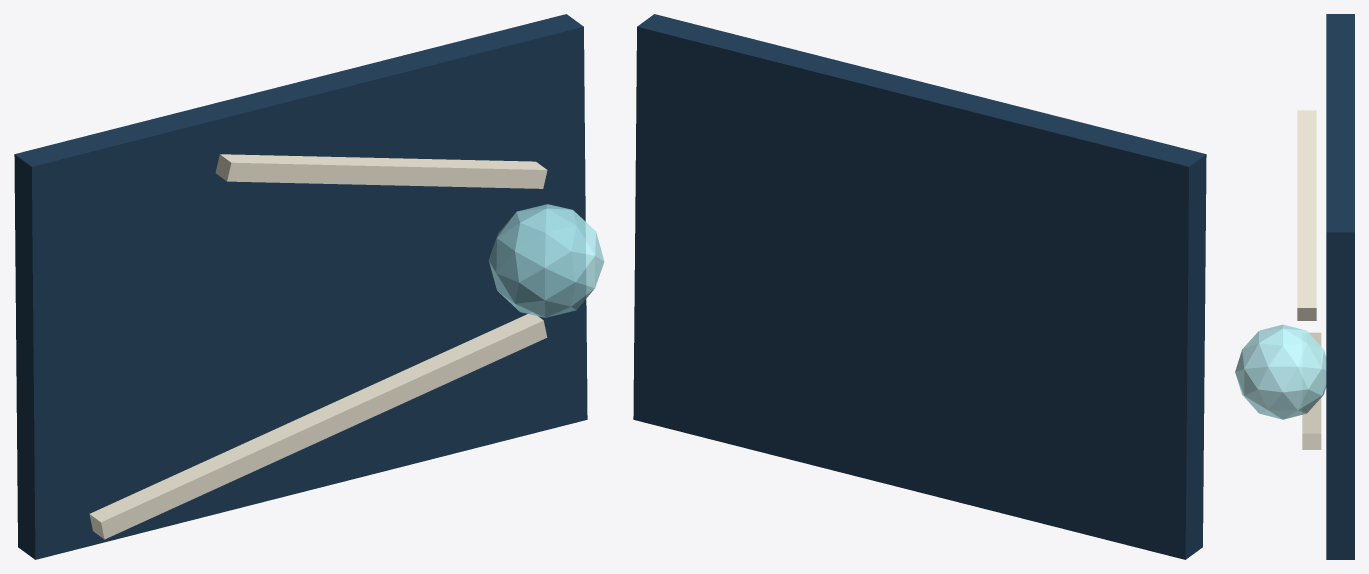
Rendered from 02_world_prop_polish.glb.
The picture shows the model from 3 angles, left to right: view 1: azimuth 30°, elevation 25°; view 2: azimuth 150°, elevation 25°; view 3: azimuth 270°, elevation 25°; orthographic projection. The views are drawn at different scales.
Visible parts, largest first — view 1: object_overlay_plate, edge_wear_a, glow_socket, edge_wear_b; view 2: object_overlay_plate; view 3: object_overlay_plate, glow_socket, edge_wear_b, edge_wear_a.
Boxes of the visible parts, x1=… form: object_overlay_plate: x1=14, y1=14, x2=587, y2=559; edge_wear_a: x1=89, y1=313, x2=547, y2=539; glow_socket: x1=488, y1=204, x2=604, y2=317; edge_wear_b: x1=215, y1=154, x2=547, y2=188; object_overlay_plate: x1=633, y1=14, x2=1206, y2=559; object_overlay_plate: x1=1326, y1=14, x2=1354, y2=559; glow_socket: x1=1235, y1=324, x2=1326, y2=419; edge_wear_b: x1=1297, y1=110, x2=1316, y2=320; edge_wear_a: x1=1302, y1=332, x2=1321, y2=449.
Size of the model in its own units: 1.11 by 0.7604 by 0.25.
